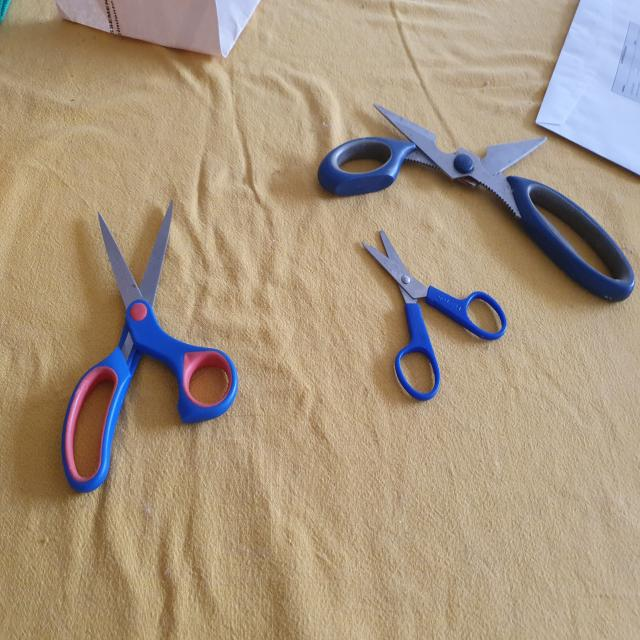scissors: (316, 102, 637, 303), (61, 195, 243, 498), (359, 227, 507, 405)
